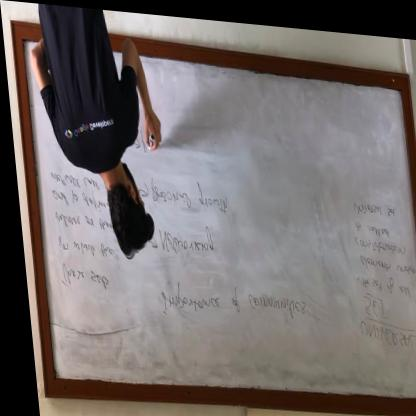Handwritten text: (151, 267, 306, 328), (146, 166, 230, 216), (150, 217, 215, 262), (52, 260, 113, 303), (353, 312, 413, 346), (50, 233, 115, 260), (49, 207, 115, 233), (45, 188, 110, 213), (350, 265, 409, 292), (347, 227, 405, 252), (43, 164, 97, 189), (347, 187, 397, 213), (354, 249, 413, 269), (355, 286, 383, 314), (350, 212, 391, 231)
Lecturer: (45, 21, 168, 263)
Whiteboard: (19, 37, 416, 398)
